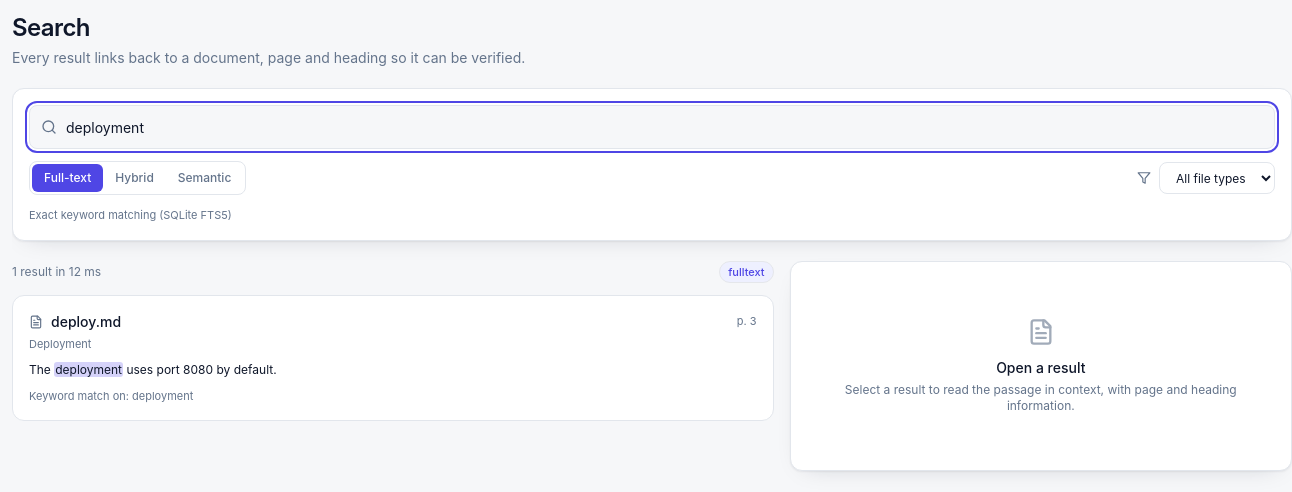
Test: Search page › opens the source preview with page, heading and chunk id
Step 1. Click the button "deploy.md" → (86, 321), box [12, 294, 774, 421]
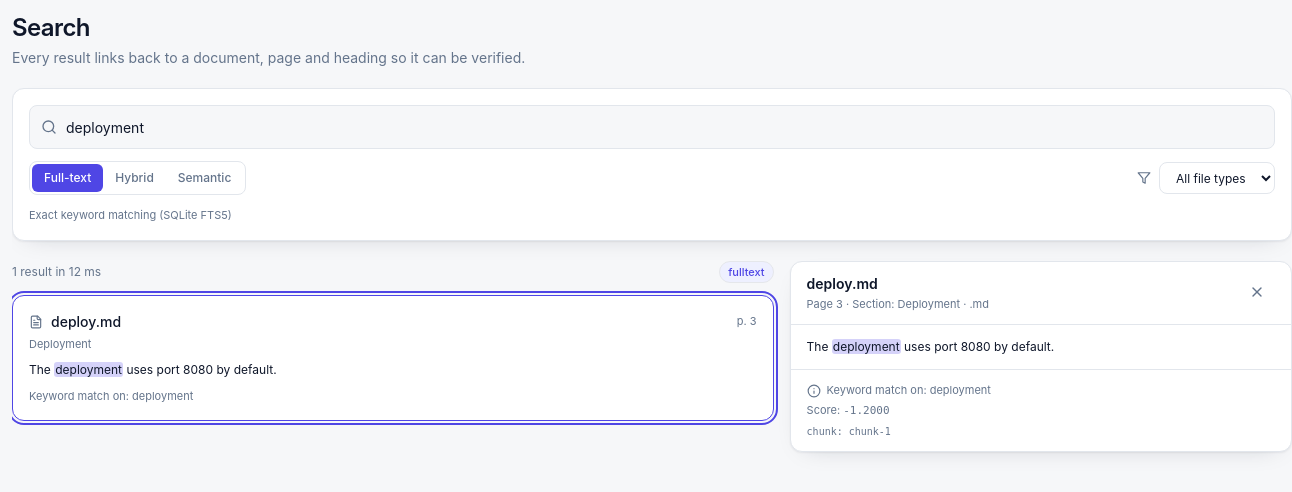
Now the element named "Source preview" shows "Page 3", box [807, 296, 852, 310]
Now the element named "Source preview" shows "Section: Deployment", box [852, 296, 969, 310]
Now the element named "Source preview" shows "Keyword match on: deployment", box [827, 382, 991, 396]
